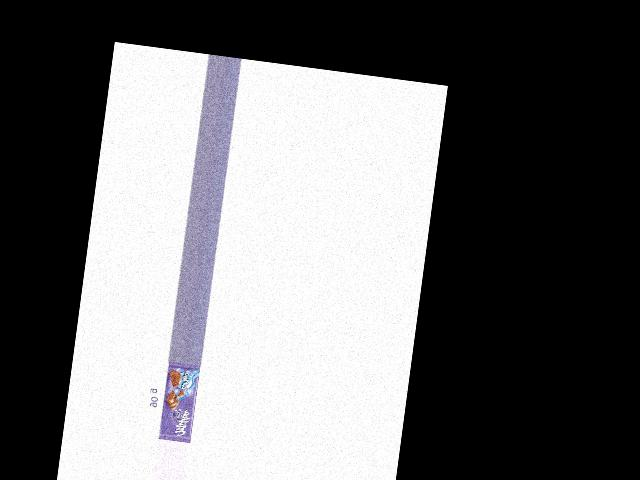chocolate: (158, 361, 200, 441)
